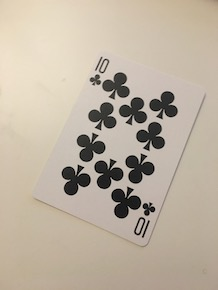TenOfClubs: (27, 37, 208, 250)
